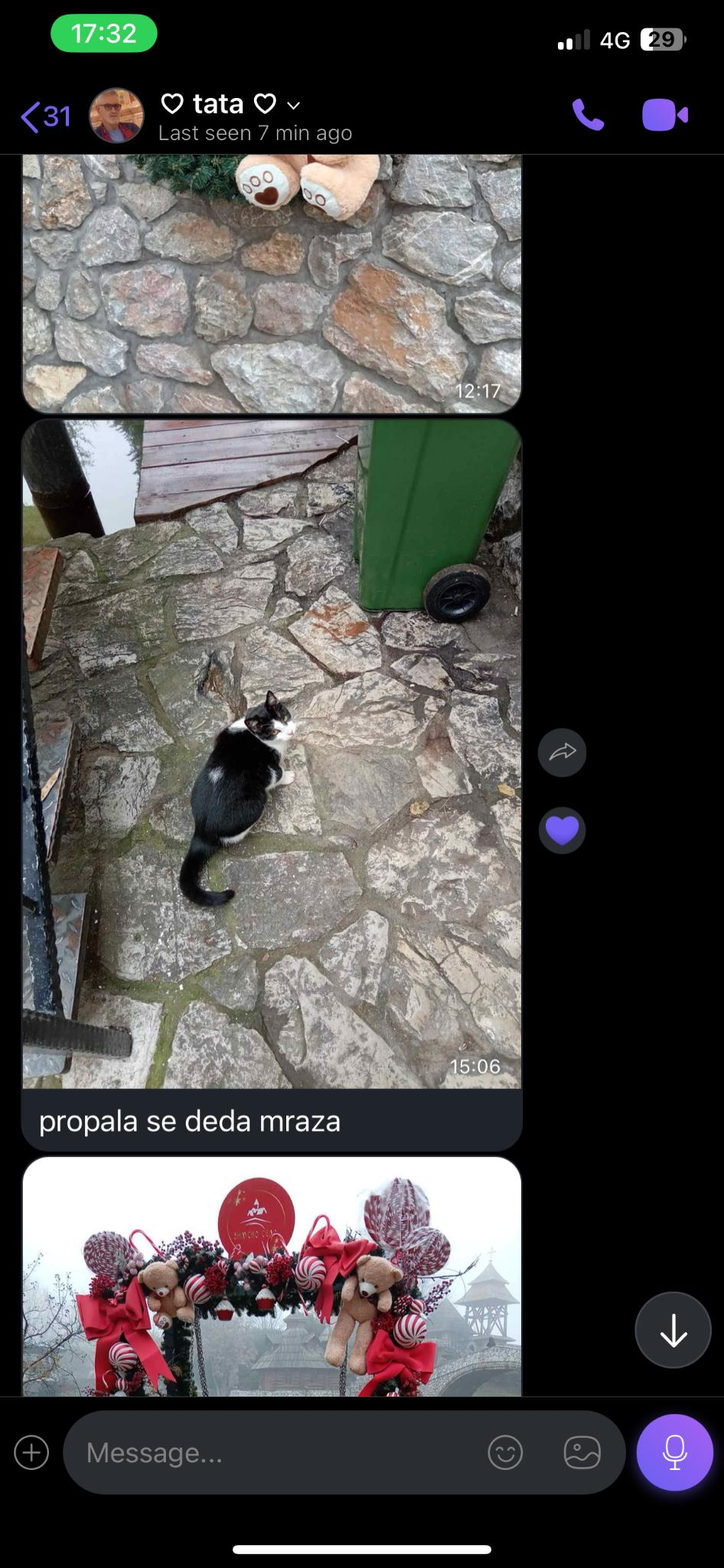macka: (179, 690, 295, 911)
